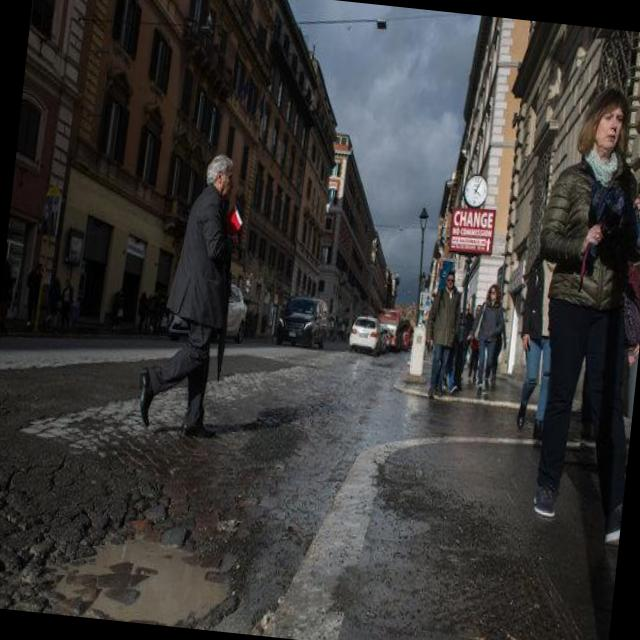Potholes: (0, 483, 260, 634)
